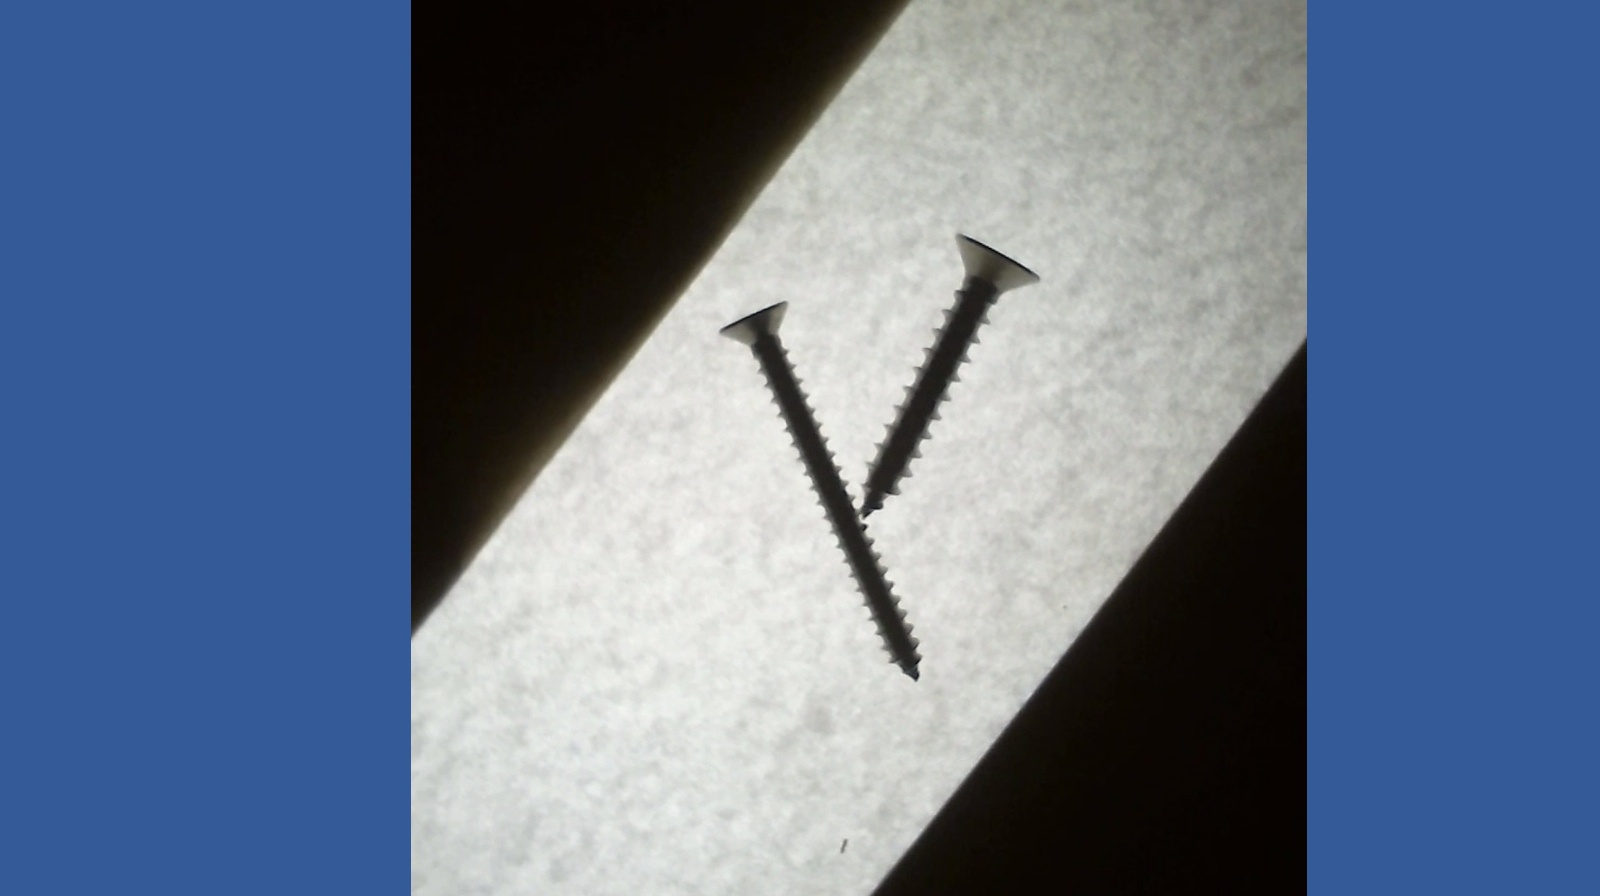S001: (858, 226, 1042, 523)
S002: (709, 298, 925, 686)
